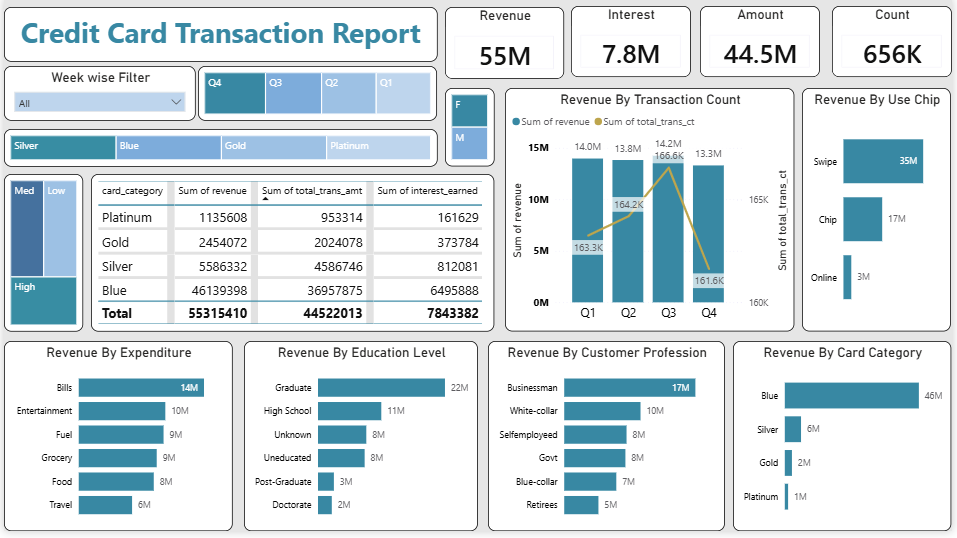

The page's visual inventory and layout, read from the dashboard file:
{"tool":"powerbi","page":{"name":"CC_Transactions","canvas":[1280,720],"ordinal":1},"visuals":[{"type":"textbox","box":[0,11.6,585.5,73.9],"z":0},{"type":"lineStackedColumnComboChart","title":"Revenue By Transaction Count","fields":{"Category":["public cc_details.qtr"],"Y":["Sum(public cc_details.revenue)"],"Y2":["Sum(public cc_details.total_trans_ct)"]},"box":[676.8,121.7,391.3,329],"z":1000},{"type":"barChart","title":"Revenue By Expenditure","fields":{"Y":["Sum(public cc_details.revenue)"],"Category":["public cc_details.exp_type"]},"box":[0,463.8,308.7,256.5],"z":2000},{"type":"barChart","title":"Revenue By Education Level","fields":{"Y":["Sum(public cc_details.revenue)"],"Category":["public cc_customers.education_level"]},"box":[324.6,463.8,315.9,256.5],"z":3000},{"type":"barChart","title":"Revenue By Customer Profession","fields":{"Y":["Sum(public cc_details.revenue)"],"Category":["public cc_customers.customer_job"]},"box":[653.6,463.8,320.3,256.5],"z":4000},{"type":"barChart","title":"Revenue By Card Category","fields":{"Y":["Sum(public cc_details.revenue)"],"Category":["public cc_details.card_category"]},"box":[985,463.5,294.8,256.5],"z":5000},{"type":"barChart","title":"Revenue By Use Chip","fields":{"Y":["Sum(public cc_details.revenue)"],"Category":["public cc_details.use_chip"]},"box":[1078.3,121.7,201.4,329],"z":6000},{"type":"tableEx","fields":{"Values":["public cc_details.card_category","Sum(public cc_details.revenue)","Sum(public cc_details.total_trans_amt)","Sum(public cc_details.interest_earned)"]},"box":[117.4,237.7,544.9,213],"z":7000},{"type":"cardVisual","title":"Revenue","fields":{"Data":["Sum(public cc_details.revenue)"]},"box":[595.7,11.6,160.9,97.1],"z":8000},{"type":"cardVisual","title":"Interest","fields":{"Data":["Sum(public cc_details.interest_earned)"]},"box":[766.8,11.3,161.6,96.4],"z":9000},{"type":"cardVisual","title":"Amount ","fields":{"Data":["Sum(public cc_details.total_trans_amt)"]},"box":[941.1,11.3,161.6,96.4],"z":10000},{"type":"cardVisual","title":"Count","fields":{"Data":["Sum(public cc_details.total_trans_ct)"]},"box":[1118.3,11.3,161.6,96.4],"z":11000},{"type":"slicer","title":"Week wise Filter","fields":{"Values":["public cc_details.week_start_date"]},"box":[0,91.3,259.4,73.9],"z":12000},{"type":"treemap","fields":{"Group":["public cc_details.qtr"],"Values":["Avg(public cc_details.client_num)"]},"box":[262.3,91.3,323.2,73.9],"z":13000},{"type":"treemap","fields":{"Values":["Avg(public cc_details.client_num)"],"Group":["public cc_customers.gender"]},"box":[595.7,121.7,66.7,105.8],"z":14000},{"type":"treemap","fields":{"Values":["Avg(public cc_details.client_num)"],"Group":["public cc_details.card_category"]},"box":[0,176.8,585.5,50.7],"z":15000},{"type":"treemap","fields":{"Values":["Avg(public cc_details.client_num)"],"Group":["public cc_customers.income_group"]},"box":[0,237.7,107.2,213],"z":16000}]}

Visuals, with their boxes in screenshot pixels (x1, y1, x2, y2), scaled from the page's 1280x720 canvas onto the 957x538 screenshot:
textbox: rect(0, 9, 438, 64)
"Revenue By Transaction Count" lineStackedColumnComboChart: rect(506, 91, 799, 337)
"Revenue By Expenditure" barChart: rect(0, 347, 231, 537)
"Revenue By Education Level" barChart: rect(243, 347, 479, 537)
"Revenue By Customer Profession" barChart: rect(489, 347, 728, 537)
"Revenue By Card Category" barChart: rect(736, 346, 956, 537)
"Revenue By Use Chip" barChart: rect(806, 91, 956, 337)
tableEx - public cc_details.card_category x Sum(public cc_details.revenue): rect(88, 178, 495, 337)
"Revenue" cardVisual: rect(445, 9, 566, 81)
"Interest" cardVisual: rect(573, 8, 694, 80)
"Amount " cardVisual: rect(704, 8, 824, 80)
"Count" cardVisual: rect(836, 8, 956, 80)
"Week wise Filter" slicer: rect(0, 68, 194, 123)
treemap - public cc_details.qtr x Avg(public cc_details.client_num): rect(196, 68, 438, 123)
treemap - Avg(public cc_details.client_num) x public cc_customers.gender: rect(445, 91, 495, 170)
treemap - Avg(public cc_details.client_num) x public cc_details.card_category: rect(0, 132, 438, 170)
treemap - Avg(public cc_details.client_num) x public cc_customers.income_group: rect(0, 178, 80, 337)
